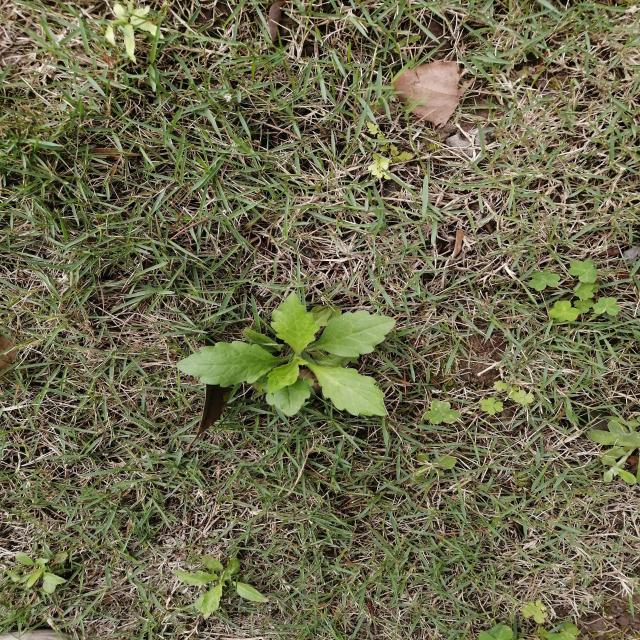horseweed: (142, 292, 434, 439)
